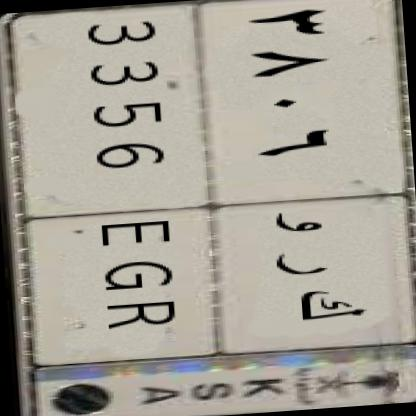english: (6, 3, 242, 372)
